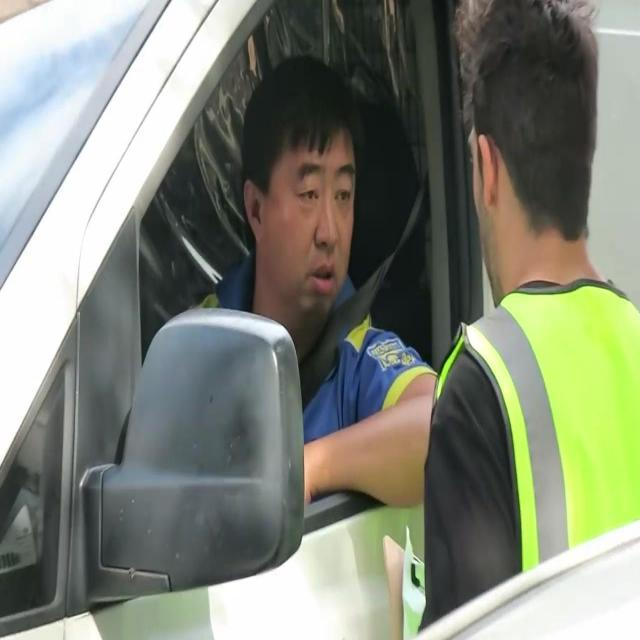reflective_jacket: (426, 276, 636, 634)
